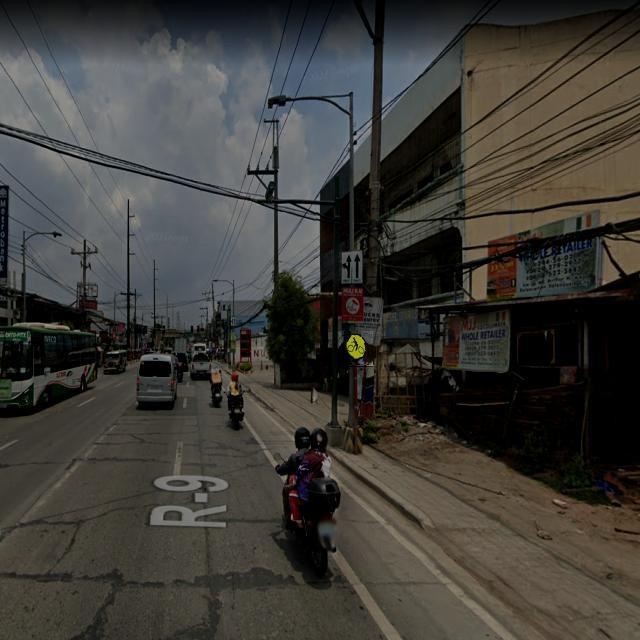bike lane: (339, 332, 373, 368)
